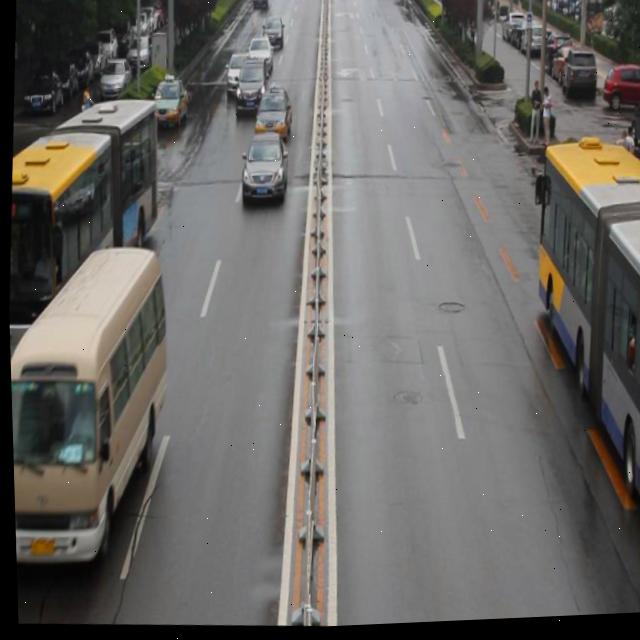car: (63, 109, 142, 184), (239, 131, 286, 211), (147, 77, 188, 136), (253, 88, 293, 146), (235, 61, 269, 121), (222, 51, 253, 105)
truck: (6, 245, 171, 566)
van: (515, 152, 640, 534), (2, 95, 169, 374)
